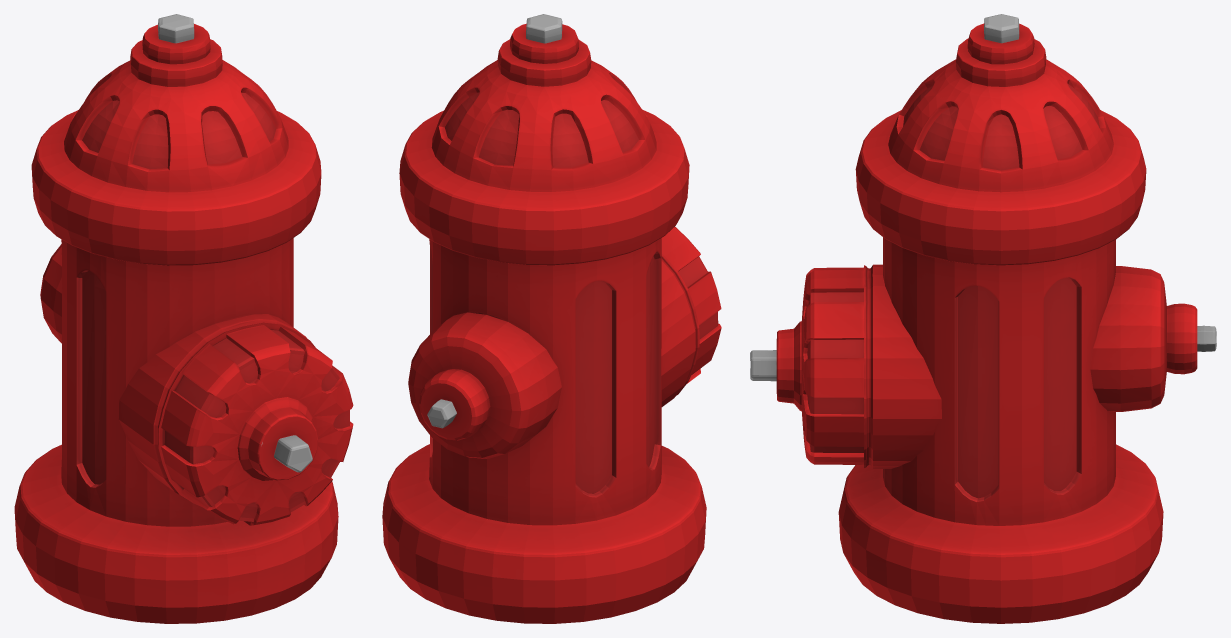
Rendered from fire_hydrant.glb.
3 views of the same model, side by side, from view 1: azimuth 30°, elevation 25°; view 2: azimuth 150°, elevation 25°; view 3: azimuth 270°, elevation 25° (orthographic).
Size of the model in its own units: 0.0542 by 0.0994 by 0.0779.
1 material, 1 textured.
